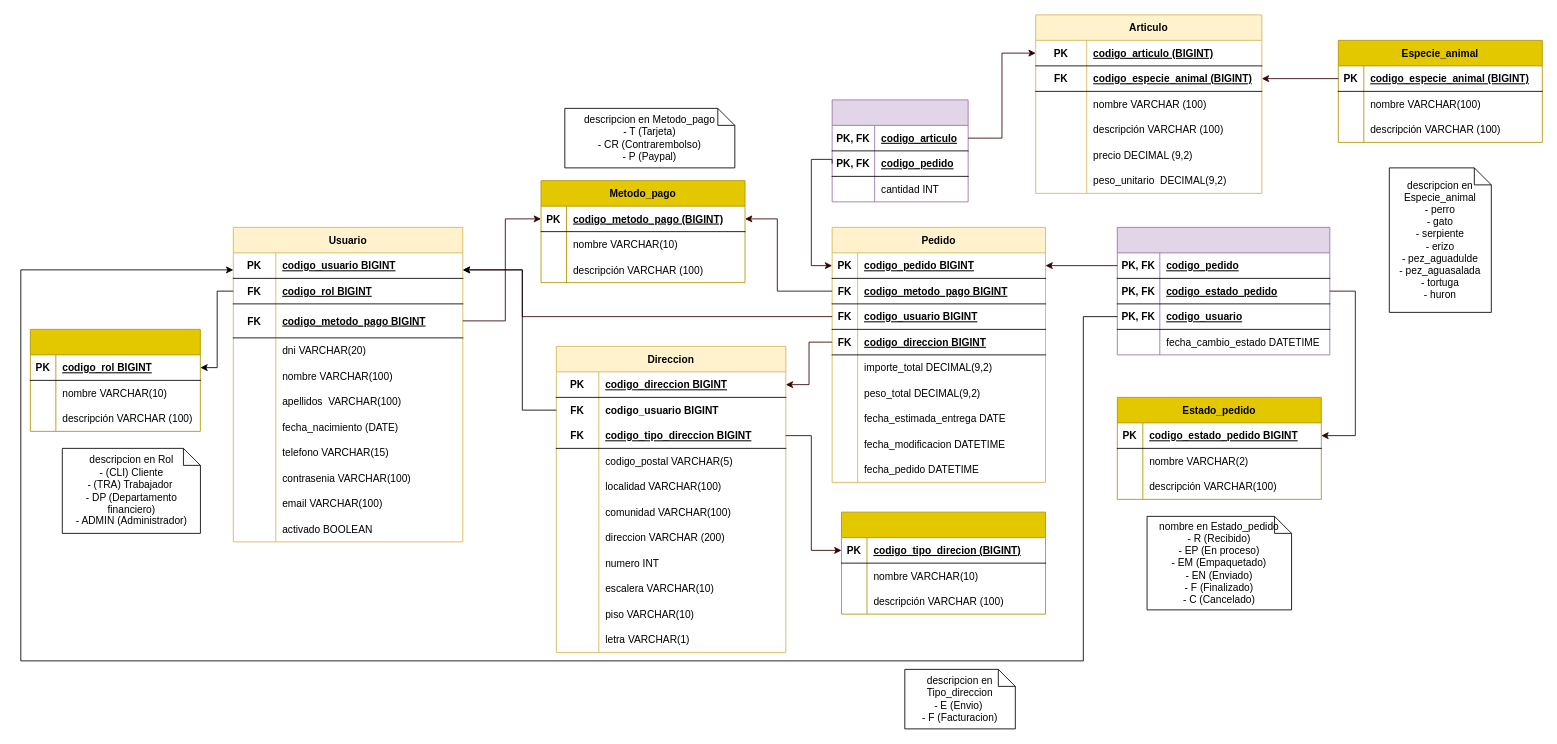
Image size: 1557x744. Some labels were removed from this diagram. The box of each missing label's shape, as (x1, y1, x2, y2) in pixels:
Pedidos_articulos: (831, 99, 968, 202)
Pedidos_estados: (1116, 227, 1330, 355)
Rol: (29, 329, 200, 431)
Tipo_direccion: (841, 511, 1046, 614)
